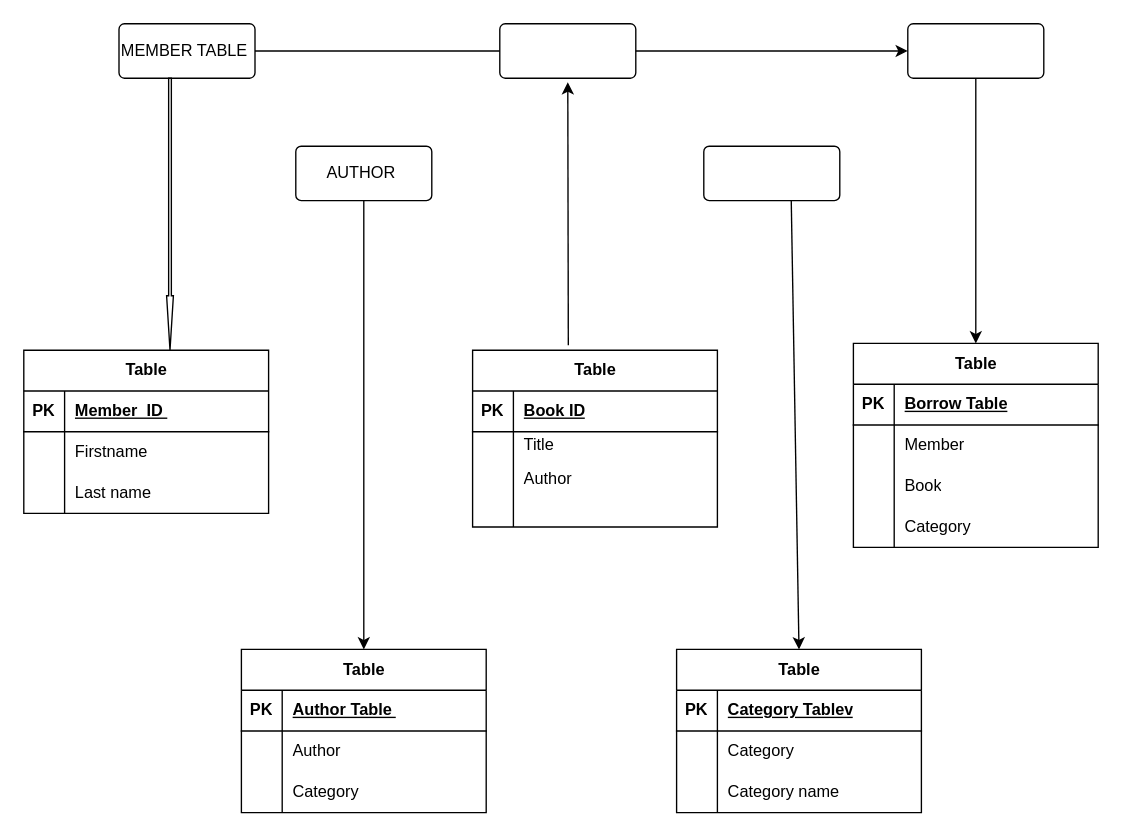
This 1122x836 diagram has some shape labels left out. Here are the shapes that lost their labels. From the top down, the centre of each, then its label:
point 567,50: BOOK TABLE
point 975,50: BORROR TABLE
point 771,173: CATEGORY TABLE
